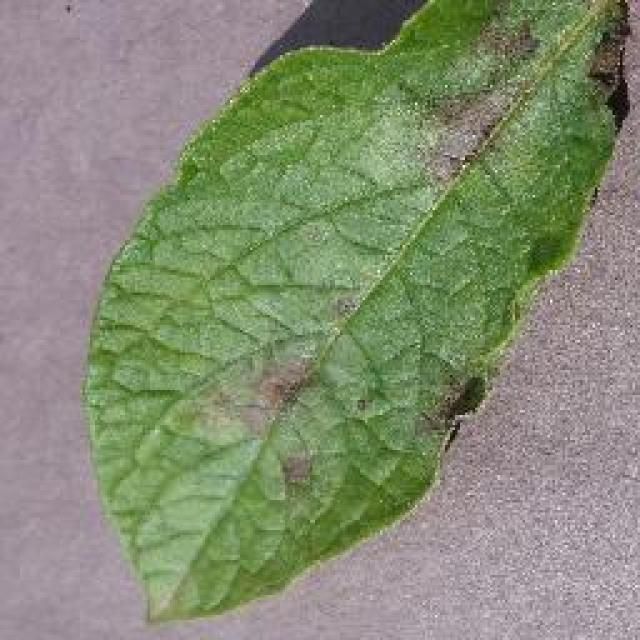Potato___Late_blight: (84, 0, 628, 630)
